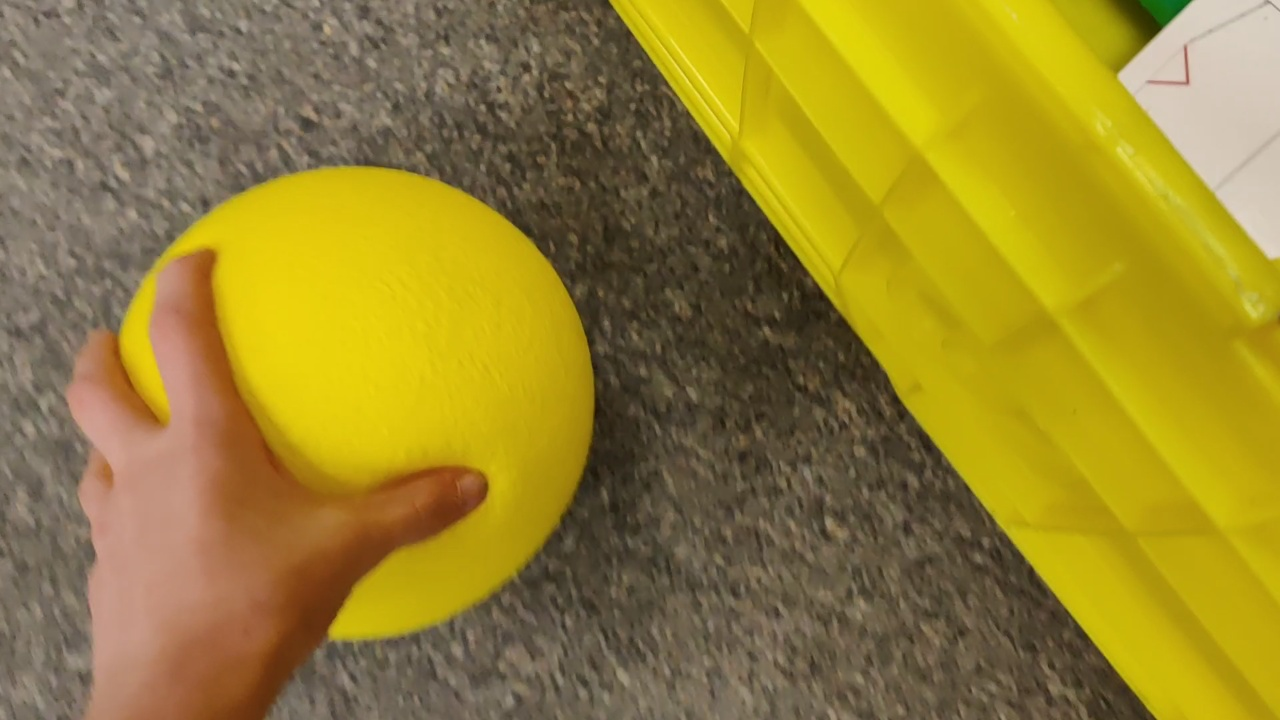Ball: (112, 167, 596, 640)
